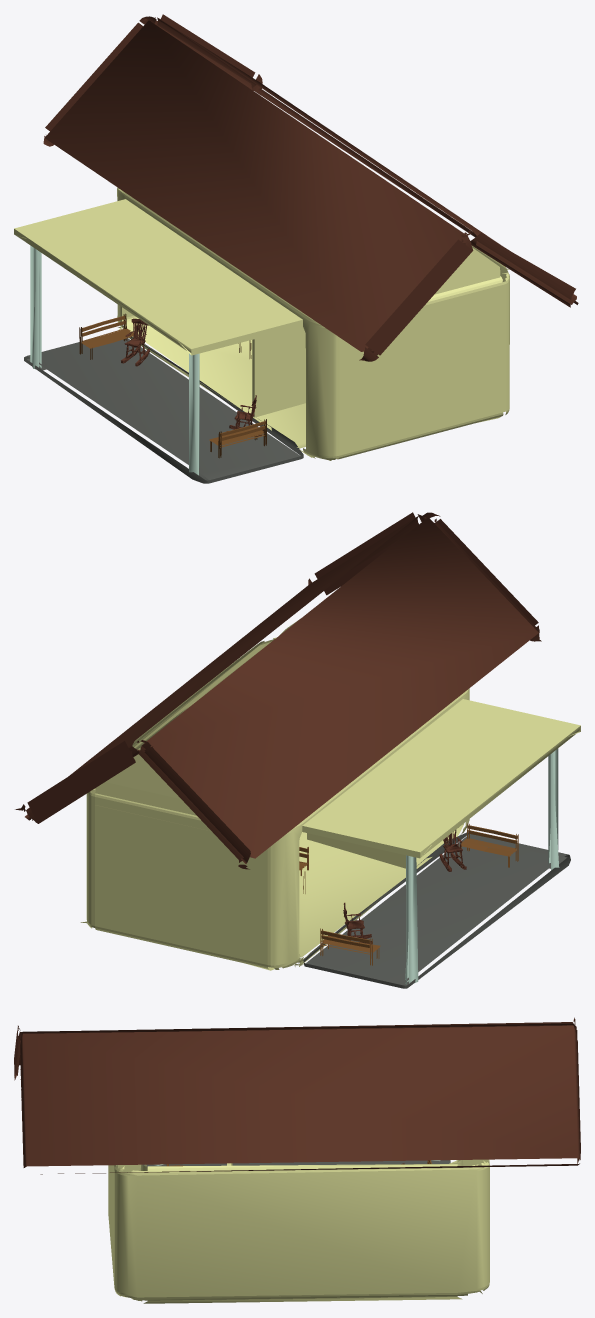
File: House1.glb
3 renders of one model, top to bottom at view 1: azimuth 30°, elevation 25°; view 2: azimuth 150°, elevation 25°; view 3: azimuth 270°, elevation 25°, orthographic. The views are drawn at different scales.
Visible parts, largest first — view 1: House1; view 2: House1; view 3: House1.
Boxes of the visible parts, bbox=[...] form: House1: bbox=[14, 14, 578, 483]; House1: bbox=[15, 512, 580, 988]; House1: bbox=[14, 1017, 580, 1303].
Bounding box in the file's own units: 79.74 × 57.04 × 125.
1 material, 1 textured.
